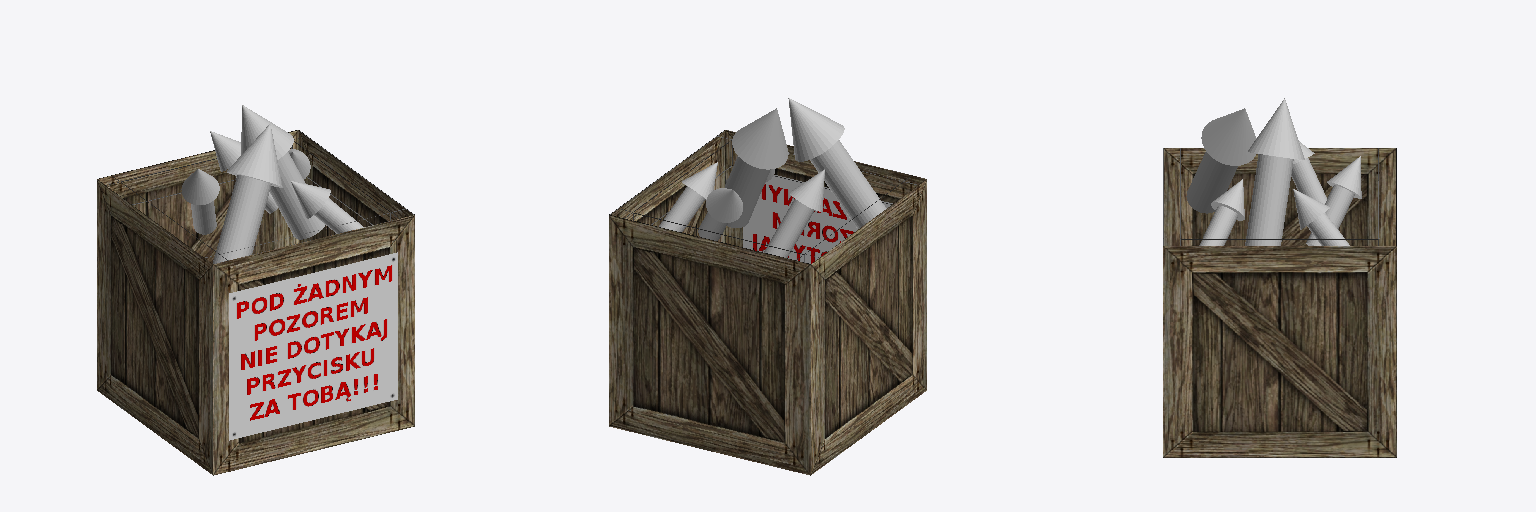
The picture shows the model from 3 angles: view 1: azimuth 30°, elevation 25°; view 2: azimuth 150°, elevation 25°; view 3: azimuth 270°, elevation 25°; orthographic projection.
Visible parts, largest first — view 1: Cube, Cone.003, Cone, Cone.001, Cone.004, Cone.002; view 2: Cube, Cone.003, Cone, Cone.001, Cone.005, Cone.002; view 3: Cube, Cone, Cone.003, Cone.002, Cone.004, Cone.005, Cone.001.
Boxes of the visible parts, box(x1,y1,x2,y2) form: Cube: box(97, 130, 414, 475); Cone.003: box(213, 124, 282, 263); Cone: box(241, 105, 324, 239); Cone.001: box(181, 169, 219, 234); Cone.004: box(291, 181, 363, 233); Cone.002: box(210, 131, 277, 213); Cube: box(609, 130, 926, 475); Cone.003: box(788, 98, 886, 228); Cone: box(725, 108, 788, 227); Cone.001: box(764, 169, 824, 257); Cone.005: box(659, 162, 717, 231); Cone.002: box(698, 188, 742, 240); Cube: box(1163, 148, 1396, 457); Cone: box(1245, 98, 1304, 245); Cone.003: box(1186, 108, 1256, 213); Cone.002: box(1306, 156, 1361, 245); Cone.004: box(1199, 179, 1244, 245); Cone.005: box(1293, 189, 1349, 245); Cone.001: box(1291, 141, 1326, 203).
Size of the model in its own units: 2 by 2.88 by 2.
2 materials, 1 textured.